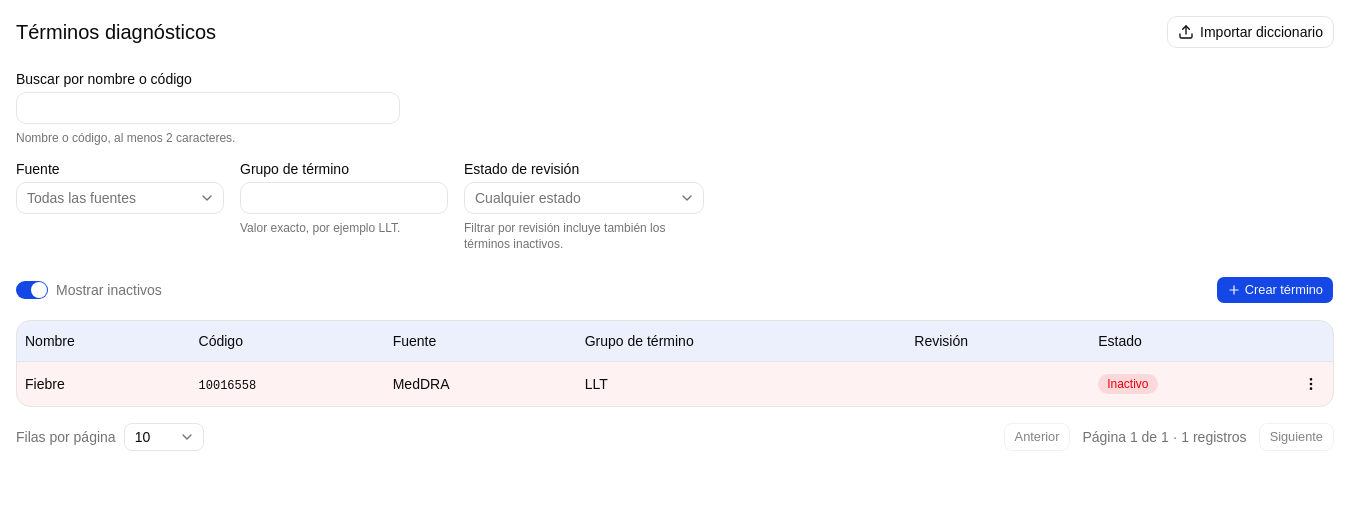
Test: DiagnosticTermListPage — rol y acciones › con SUPERADMIN, una fila inactiva ofrece «Editar», «Ver auditoría» y «Reactivar»
Click the button named "Acciones del término diagnóstico": (1311,384) [1297,370,1325,398]
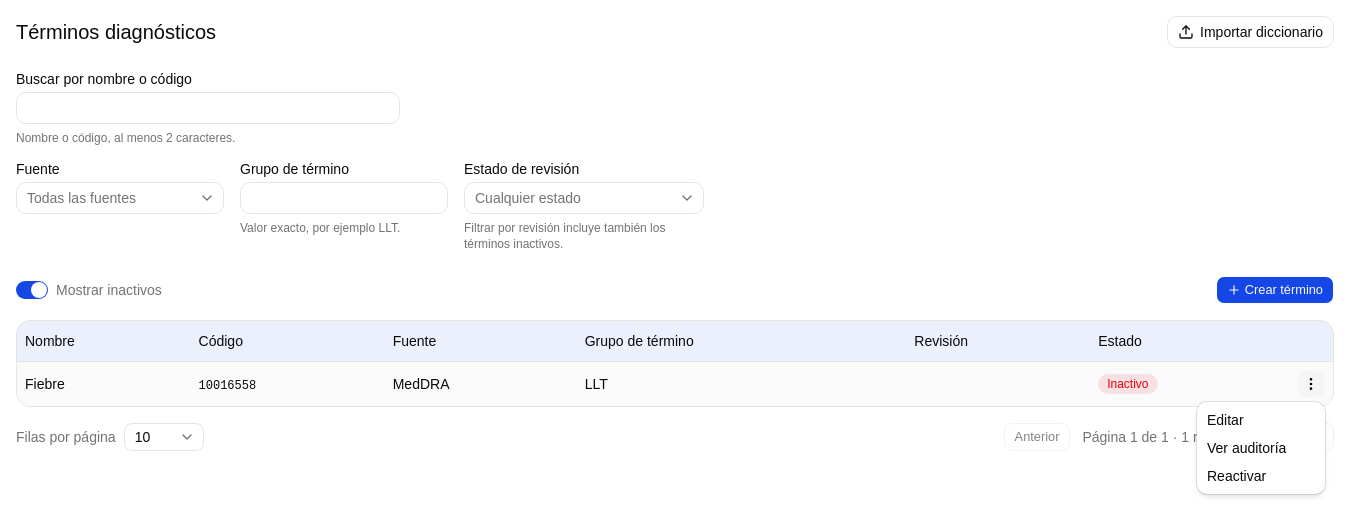
Result: the menu item "Editar" is shown at [1207,412,1244,428]
Result: the menu item "Ver auditoría" is shown at [1207,440,1286,456]
Result: the menu item "Reactivar" is shown at [1207,468,1266,484]
